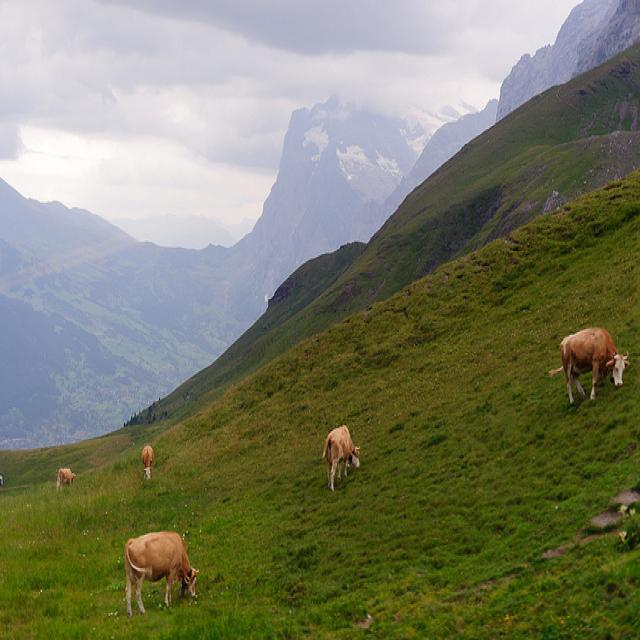cow: (124, 527, 198, 613), (548, 326, 628, 403), (322, 422, 359, 490), (54, 466, 75, 491), (139, 442, 153, 476), (0, 470, 3, 485)
